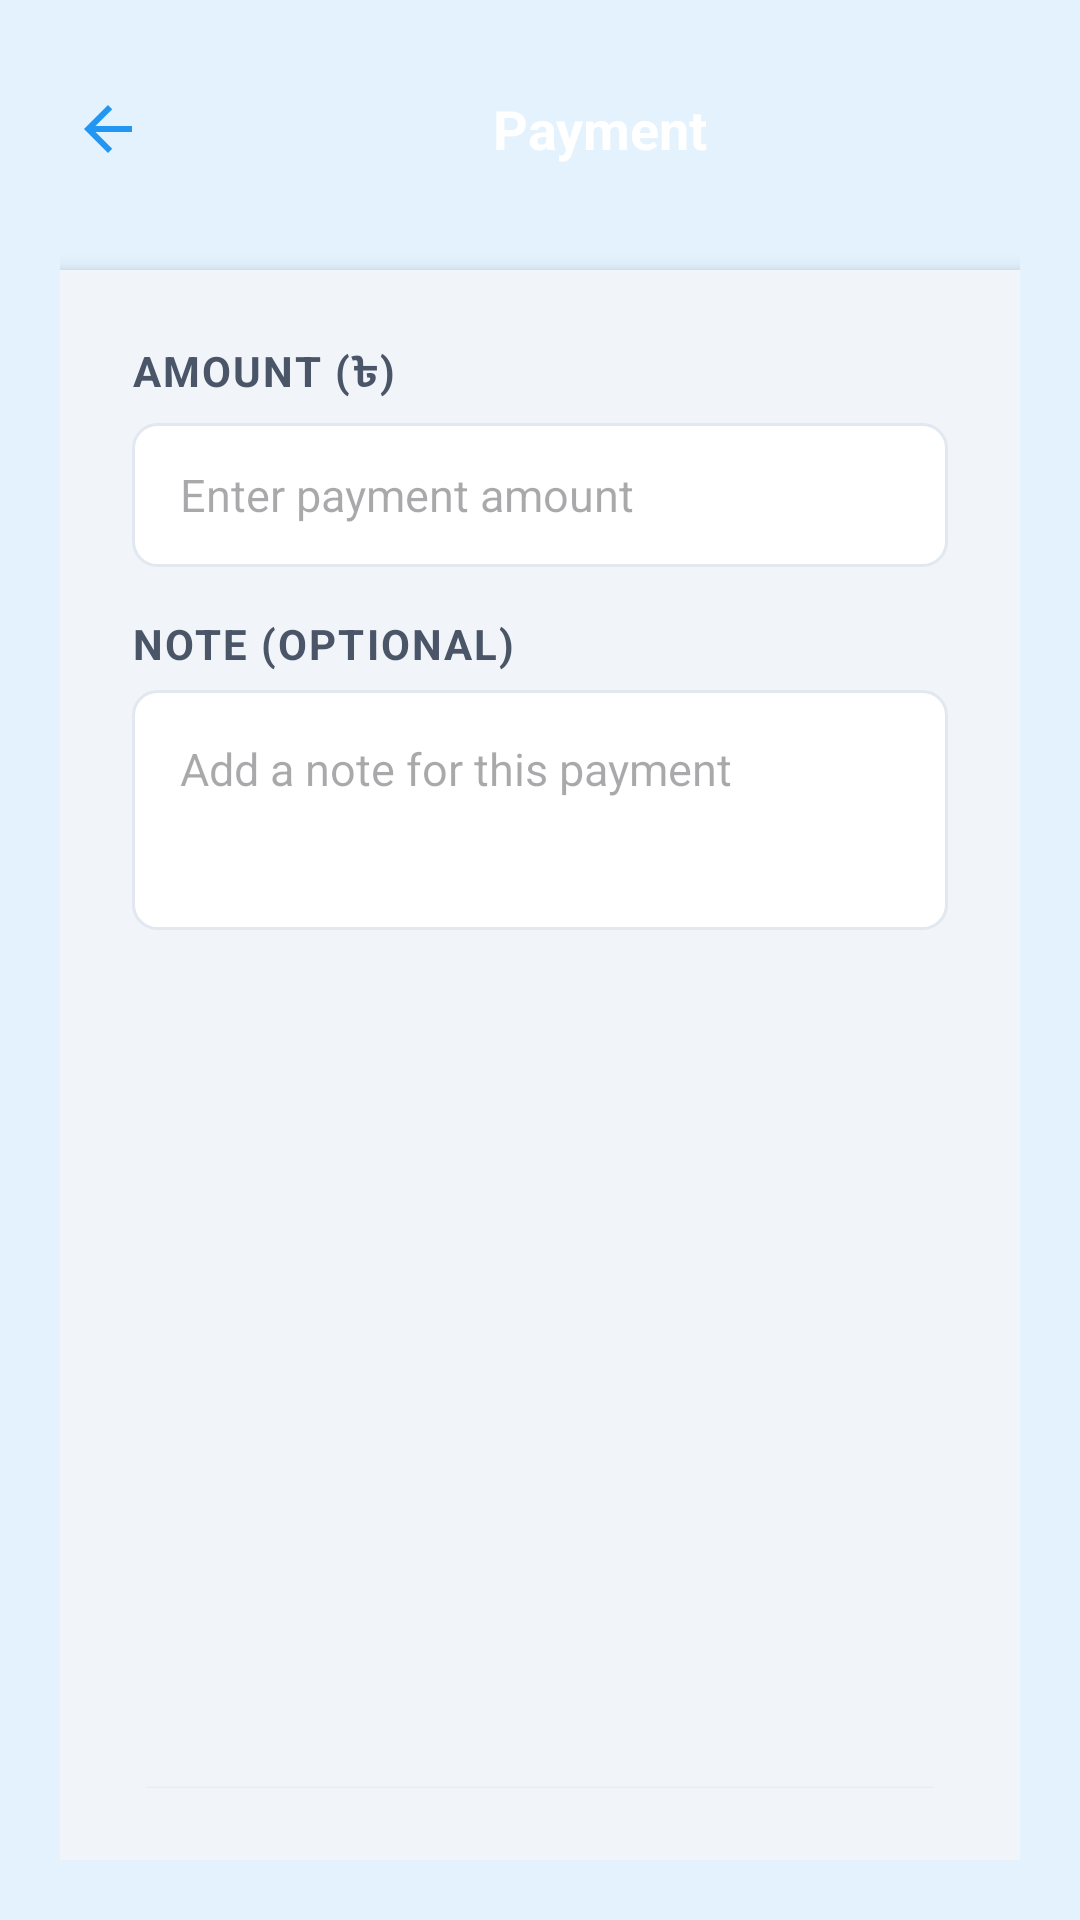

Where to tap for icons on this 1080px x 1920px app screen, as point (x, y):
arrow back: point (108, 129)
